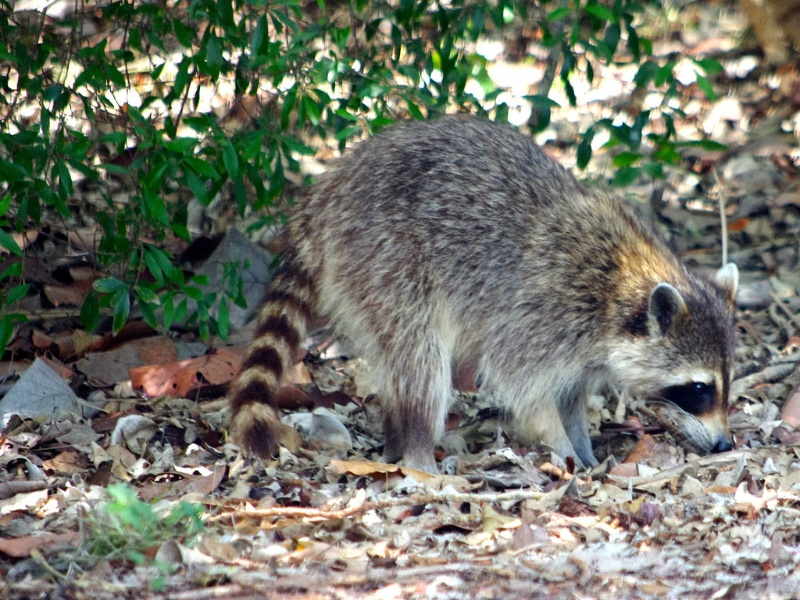raccoon: (228, 120, 751, 494)
